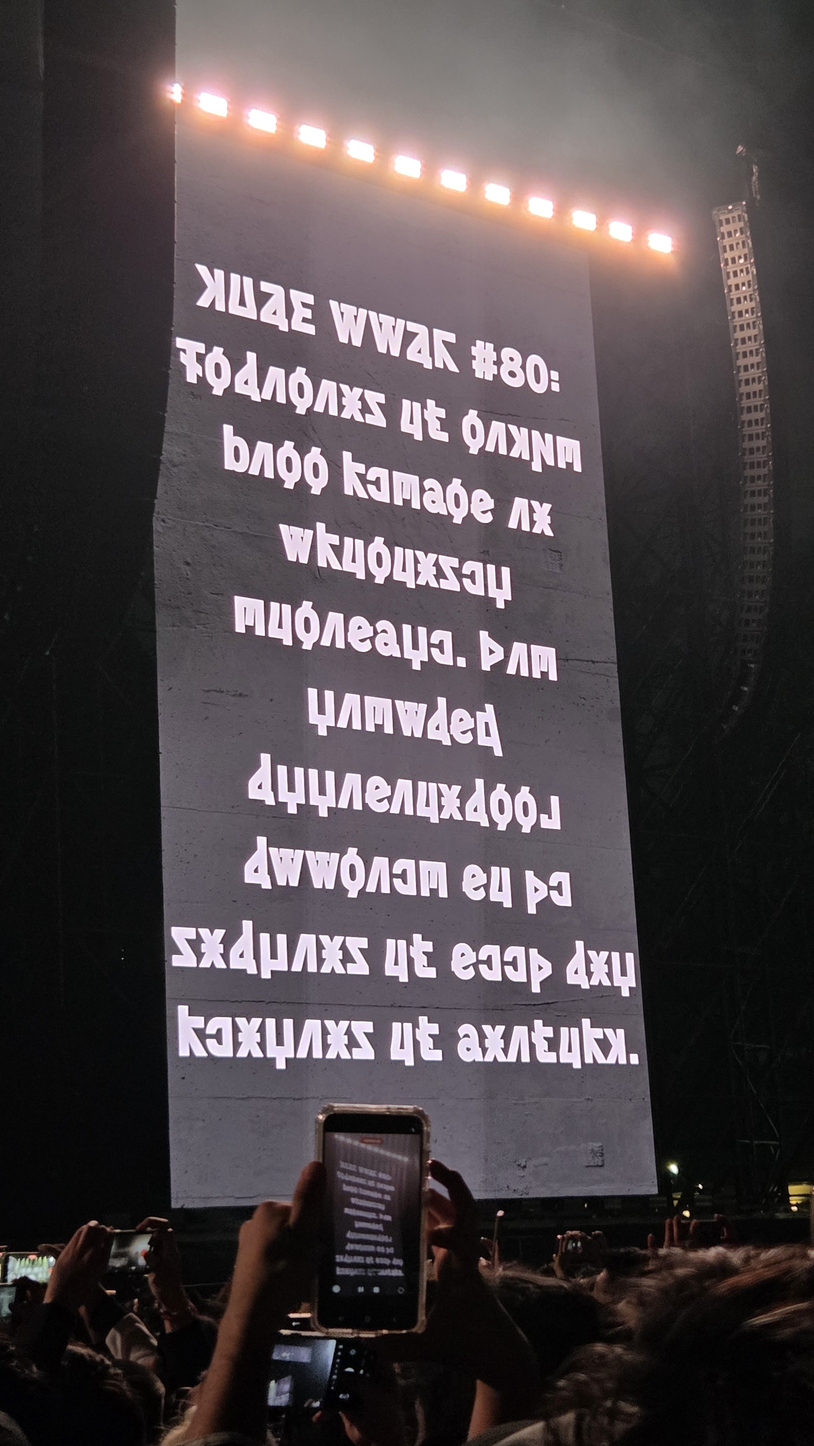0: (522, 351, 552, 397)
8: (496, 344, 528, 391)
A: (256, 276, 293, 337), (402, 317, 437, 374)
F: (171, 333, 209, 388)
M: (191, 259, 230, 316)
O: (224, 269, 261, 324)
P: (325, 295, 372, 351), (364, 306, 409, 361)
R: (429, 324, 463, 377)
T: (285, 285, 320, 339)
TH: (476, 626, 508, 675)
a: (225, 915, 263, 979), (240, 831, 277, 894), (244, 748, 280, 810), (230, 346, 266, 407), (423, 692, 456, 750), (461, 774, 494, 832), (562, 936, 594, 993)
b: (528, 426, 558, 476)
ch: (471, 699, 508, 761)
d: (261, 1013, 299, 1074), (273, 760, 310, 819), (303, 683, 339, 740), (304, 764, 340, 821), (398, 620, 433, 675), (482, 560, 516, 613), (607, 947, 640, 1001)
e: (202, 1013, 237, 1060), (389, 855, 420, 899), (363, 463, 393, 506), (475, 941, 505, 984), (500, 943, 530, 985), (427, 627, 456, 669), (459, 558, 488, 599), (546, 869, 575, 910)
f: (412, 1012, 446, 1065), (406, 930, 440, 982), (527, 1016, 561, 1067), (420, 395, 452, 446)
g: (167, 923, 201, 971), (342, 933, 373, 978), (348, 1017, 378, 1063), (361, 386, 390, 431), (435, 552, 463, 595)
i: (293, 1016, 326, 1062), (245, 438, 278, 482), (288, 930, 320, 975), (258, 363, 290, 407), (362, 853, 394, 897), (334, 770, 366, 813), (317, 608, 348, 652), (334, 690, 365, 734), (310, 376, 341, 419), (386, 775, 417, 818), (502, 1022, 533, 1065), (503, 639, 532, 680), (482, 417, 510, 458), (505, 494, 533, 534)
l: (336, 843, 370, 903), (200, 342, 235, 400), (272, 436, 306, 494), (290, 596, 324, 654), (299, 442, 333, 499), (284, 362, 317, 419), (363, 532, 395, 589), (485, 779, 517, 835), (510, 782, 541, 837), (458, 405, 489, 459), (442, 474, 473, 528)
m: (600, 1025, 630, 1067), (504, 421, 533, 463)
n: (194, 924, 231, 972), (231, 1014, 267, 1061), (320, 1016, 355, 1062), (315, 931, 349, 977), (336, 380, 368, 426), (434, 780, 467, 824), (411, 547, 442, 591), (478, 1022, 509, 1065), (527, 497, 557, 540), (584, 947, 614, 989)
o: (264, 598, 296, 650), (386, 1018, 418, 1070), (381, 935, 412, 986), (338, 533, 369, 583), (389, 542, 419, 592), (413, 777, 443, 827), (486, 862, 516, 911), (555, 1023, 585, 1072), (397, 395, 426, 445)
p: (265, 843, 308, 890), (275, 520, 317, 568), (302, 847, 343, 893), (391, 697, 431, 741)
r: (173, 1000, 213, 1061), (312, 517, 347, 575), (338, 446, 373, 503), (577, 1014, 608, 1068)
s: (231, 592, 269, 640), (361, 692, 397, 738), (389, 467, 424, 513), (416, 857, 451, 901), (527, 641, 561, 684), (553, 432, 585, 476)
sh: (255, 929, 292, 983)
t: (362, 773, 394, 816), (448, 940, 480, 983), (345, 613, 377, 655), (459, 861, 490, 904), (447, 705, 478, 747), (467, 486, 497, 526)
th: (525, 944, 556, 997), (521, 866, 552, 918)
u: (454, 1020, 487, 1065), (372, 617, 405, 660), (419, 475, 451, 518)
w: (219, 420, 254, 477)
y: (537, 793, 564, 833)
